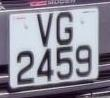2: (14, 46, 38, 90)
4: (35, 45, 57, 88)
5: (55, 44, 76, 86)
9: (74, 42, 94, 83)
G: (55, 10, 76, 50)
V: (33, 12, 56, 51)
